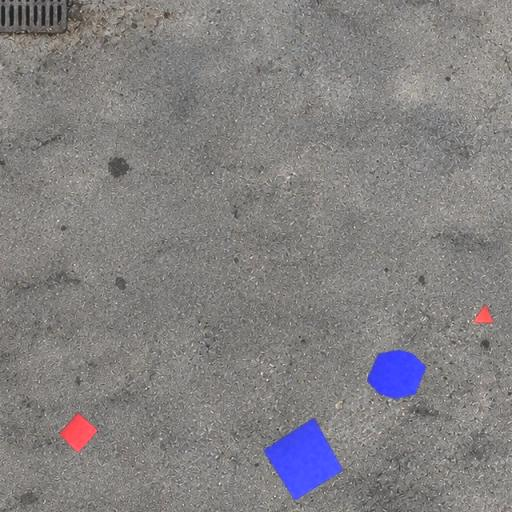BLUE_SQUARE: (262, 417, 344, 501)
RED_SQUARE: (58, 411, 100, 454)
